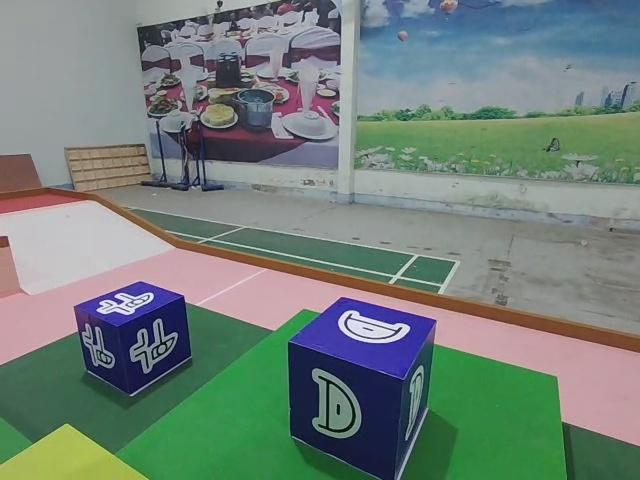R2 Real Blue: (288, 296, 437, 478), (75, 281, 193, 397)
